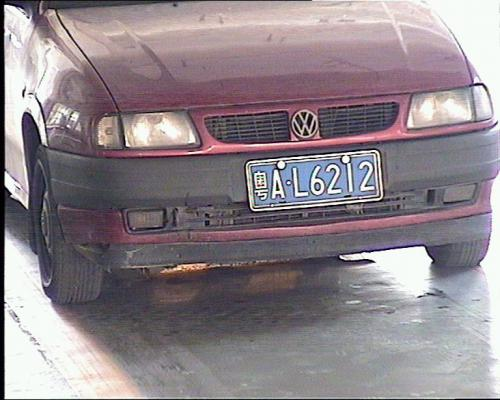Carplate: (240, 151, 388, 214)
